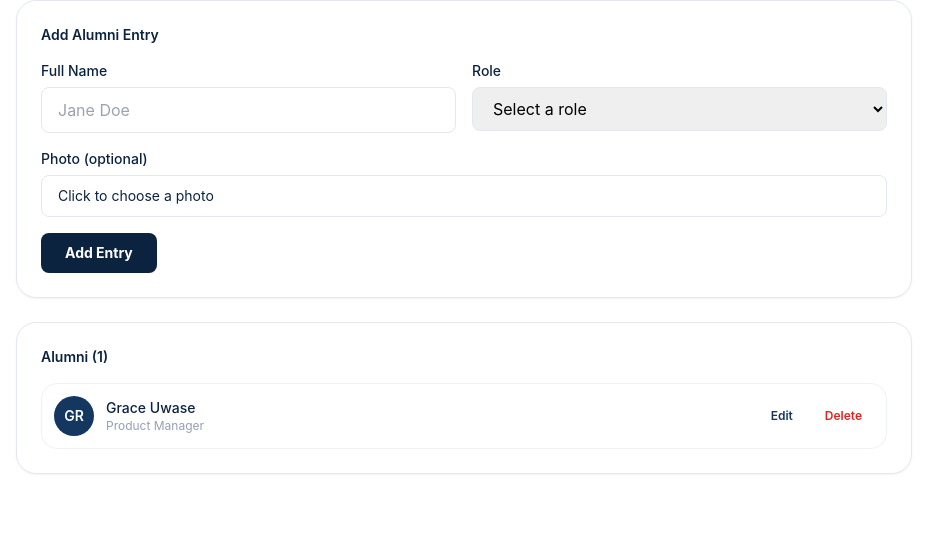
Test case: AlumniManagement › editing an entry with a non-preset role shows Other selected with the real text pre-filled
Expected: the text "Grace Uwase" is shown, [106,399,196,416]
Click the button "Edit": (782,416) [759,402,805,430]
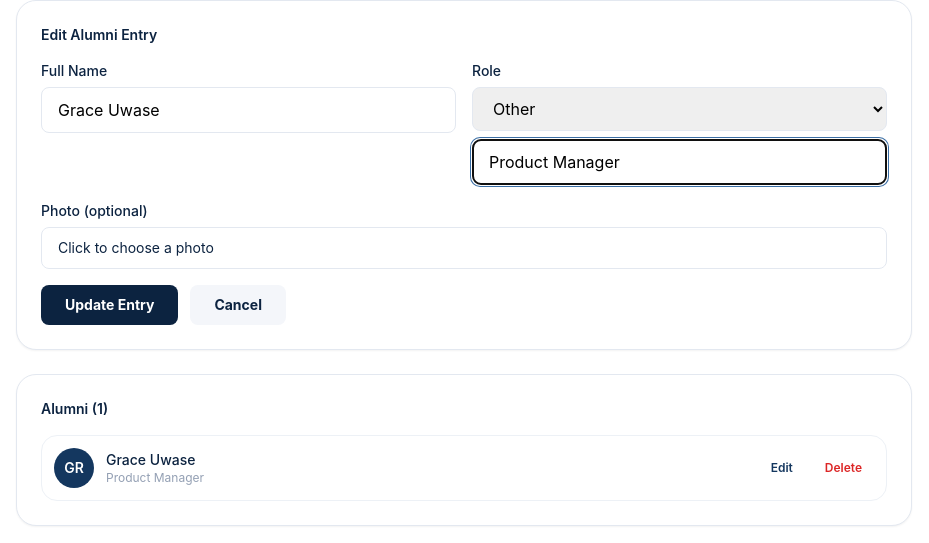
Now the dropdown labelled "Role" shows "Other", box [472,87,887,131]
Now the field with placeholder "Type their role" holds "Product Manager", box [472,139,887,185]
